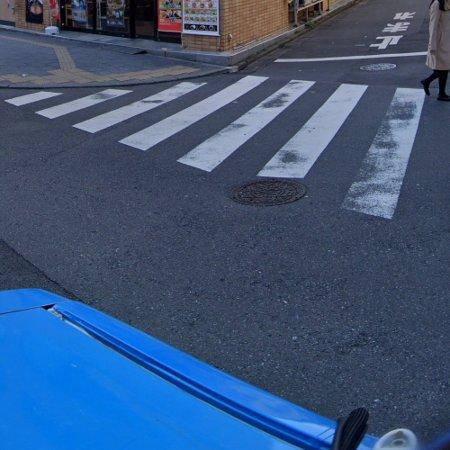crosswalks: (4, 79, 427, 217)
